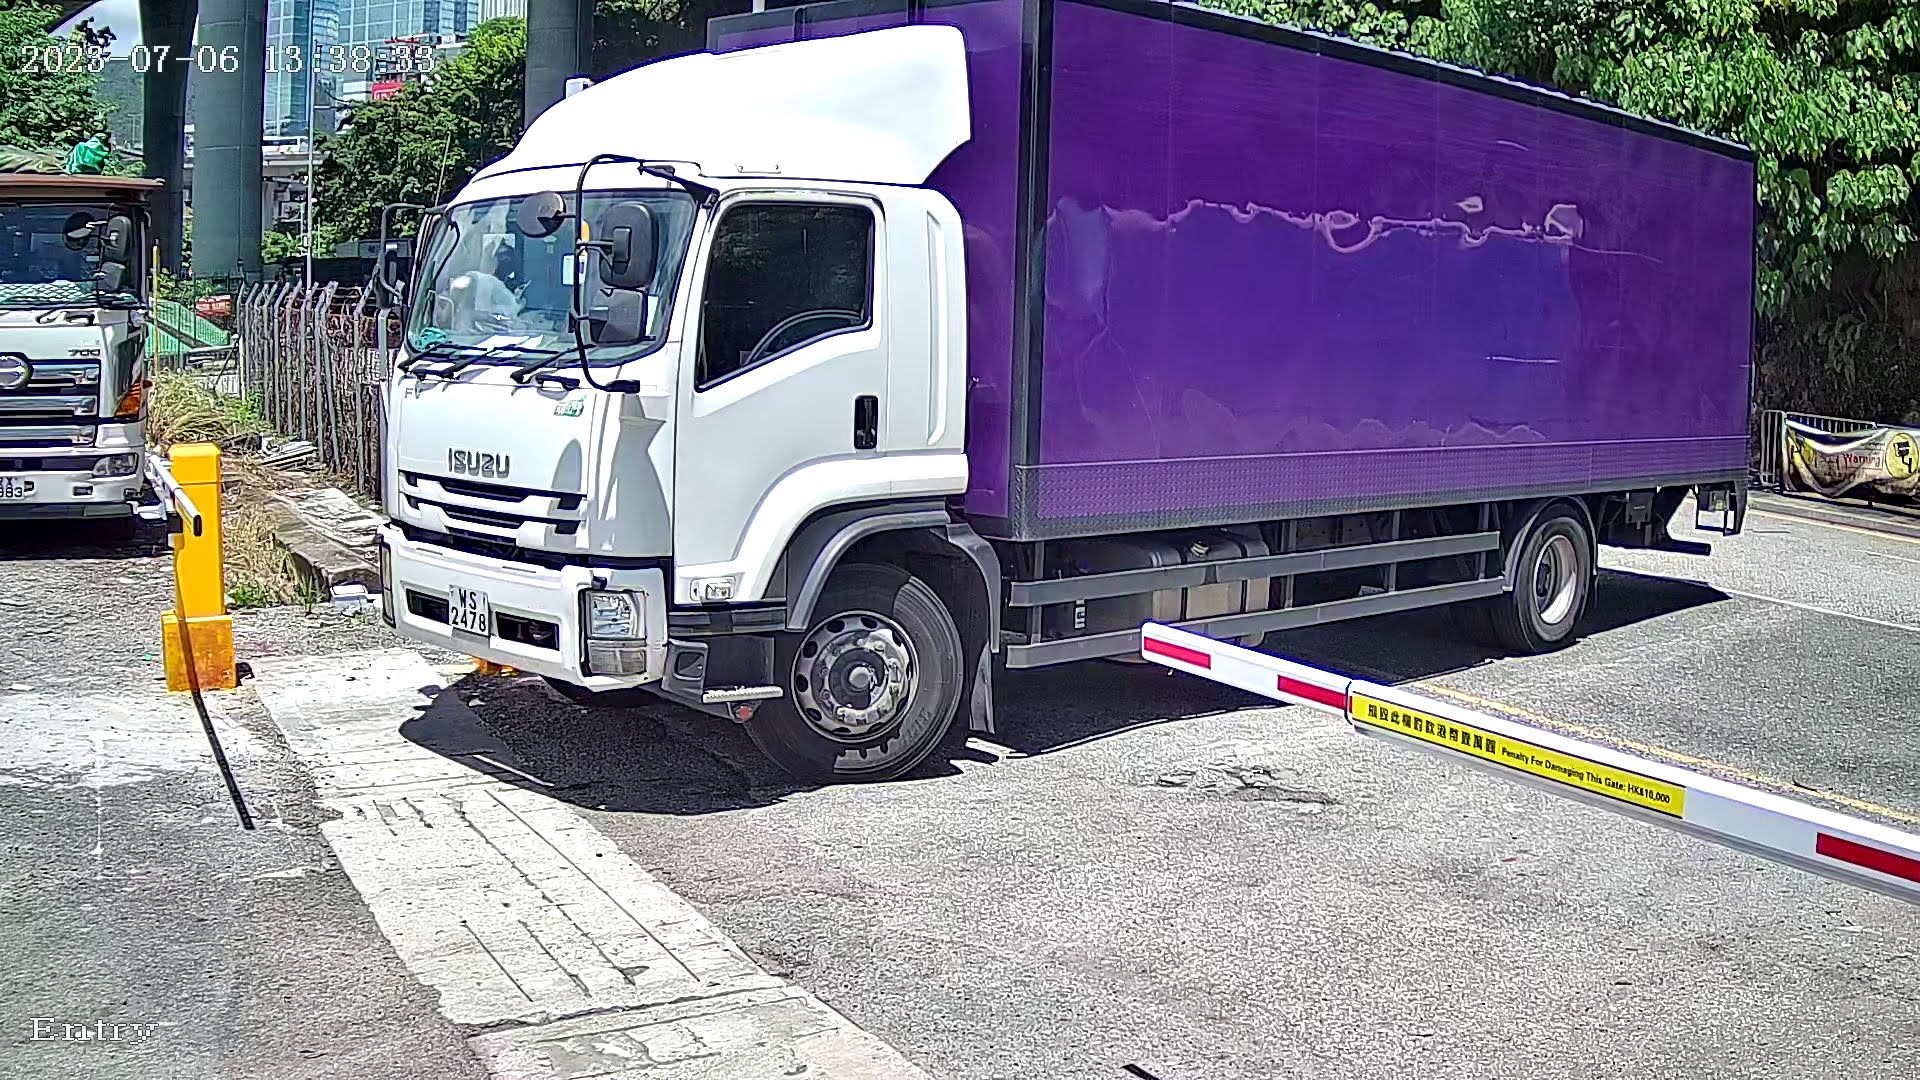truck: (375, 1, 1817, 789)
